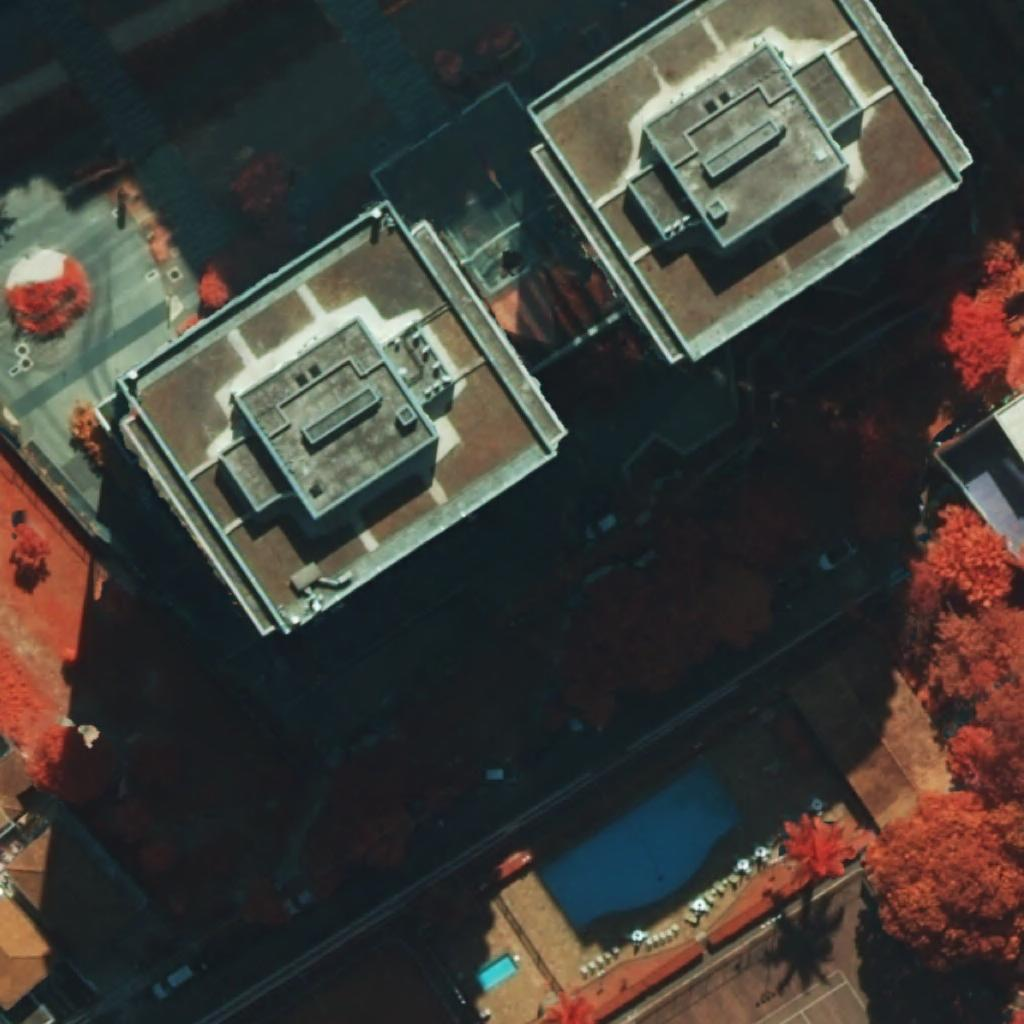pool: (540, 763, 742, 929), (474, 954, 518, 992)
